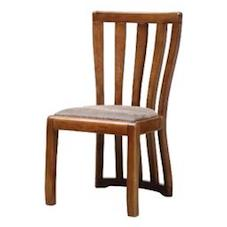chair: (26, 5, 190, 219)
